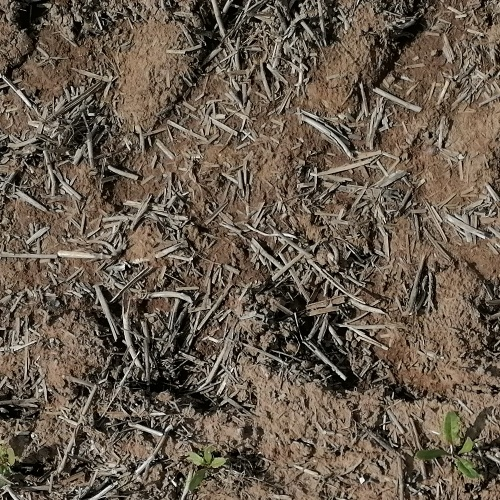beet: (418, 414, 481, 477), (188, 446, 231, 493), (0, 443, 15, 491)
